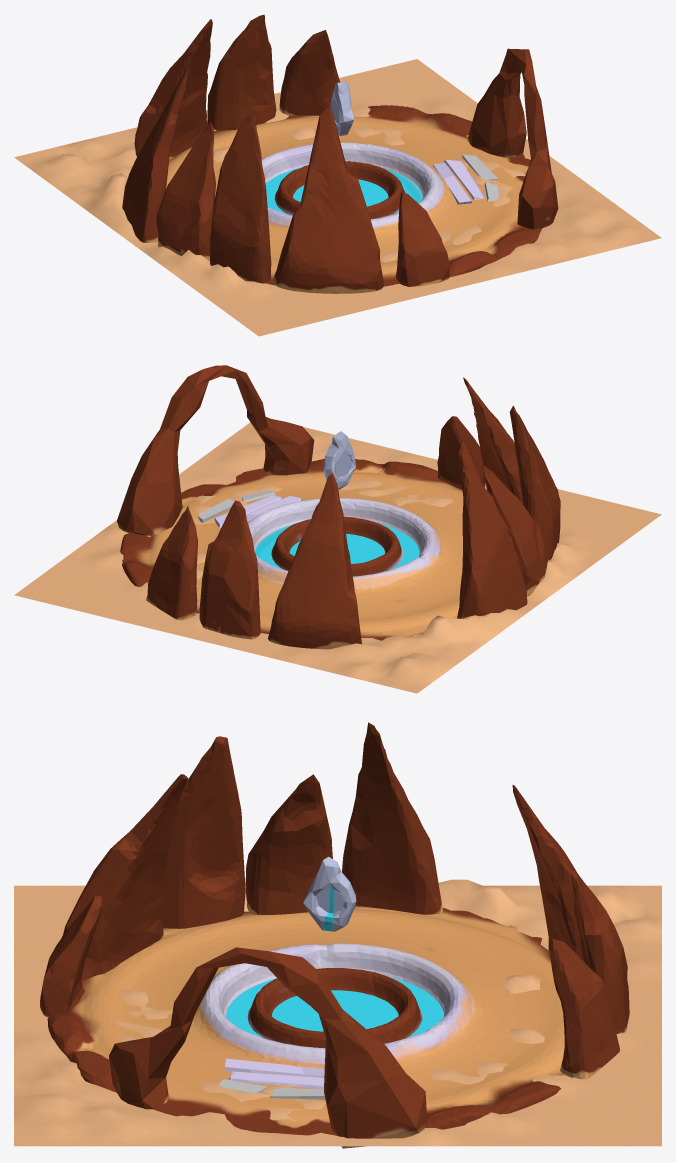
Rendered from all.fbx.
3 renders of one model, top to bottom at view 1: azimuth 30°, elevation 25°; view 2: azimuth 150°, elevation 25°; view 3: azimuth 270°, elevation 25°, orthographic. The views are drawn at different scales.
Visible parts, largest first — view 1: desert1:pPlane1, low_11:Group36990, low_10:Group60120, low_1:Group43876, low_3:Group5733, low_4:Group63373, low_9:Group50104, low_2:Group6481, low_8:Group39726, low_5:Group27217, low_6:Group39585, low_7:Group52690 (+2 smaller); view 2: desert1:pPlane1, low_11:Group36990, low_1:Group43876, low_2:Group6481, low_8:Group39726, low_4:Group63373, low_5:Group27217, low_3:Group5733, low_9:Group50104, low_10:Group60120, low_6:Group39585, low_7:Group52690; view 3: low_11:Group36990, desert1:pPlane1, low_1:Group43876, low_3:Group5733, low_8:Group39726, low_10:Group60120, low_9:Group50104, low_5:Group27217, low_4:Group63373, low_2:Group6481, low_6:Group39585, low_7:Group52690 (+2 smaller).
Boxes of the visible parts, x1,y1,x2,y2 form: desert1:pPlane1: (14,59,661,336); low_11:Group36990: (166,105,541,286); low_10:Group60120: (273,107,383,293); low_1:Group43876: (467,48,558,230); low_3:Group5733: (210,115,271,283); low_4:Group63373: (207,14,276,130); low_9:Group50104: (156,122,215,260); low_2:Group6481: (134,19,212,159); low_8:Group39726: (122,67,189,242); low_5:Group27217: (279,30,339,115); low_6:Group39585: (395,192,449,286); low_7:Group52690: (330,81,354,135); desert1:pPlane1: (14,422,661,693); low_11:Group36990: (120,459,463,640); low_1:Group43876: (117,365,314,535); low_2:Group6481: (268,473,361,649); low_8:Group39726: (457,441,527,618); low_4:Group63373: (199,500,260,639); low_5:Group27217: (146,506,198,620); low_3:Group5733: (509,405,560,560); low_9:Group50104: (483,465,547,596); low_10:Group60120: (463,377,523,504); low_6:Group39585: (437,416,485,489); low_7:Group52690: (323,431,355,489); low_11:Group36990: (47,905,573,1135); desert1:pPlane1: (14,879,661,1146); low_1:Group43876: (109,947,427,1148); low_3:Group5733: (163,736,245,928); low_8:Group39726: (342,722,442,914); low_10:Group60120: (62,774,188,979); low_9:Group50104: (245,774,332,914); low_5:Group27217: (550,939,620,1079); low_4:Group63373: (571,870,629,1033); low_2:Group6481: (512,785,583,960); low_6:Group39585: (40,895,102,1017); low_7:Group52690: (303,856,356,931).
Bounding box in the file's own units: 9.93 × 4.04 × 10.44.
